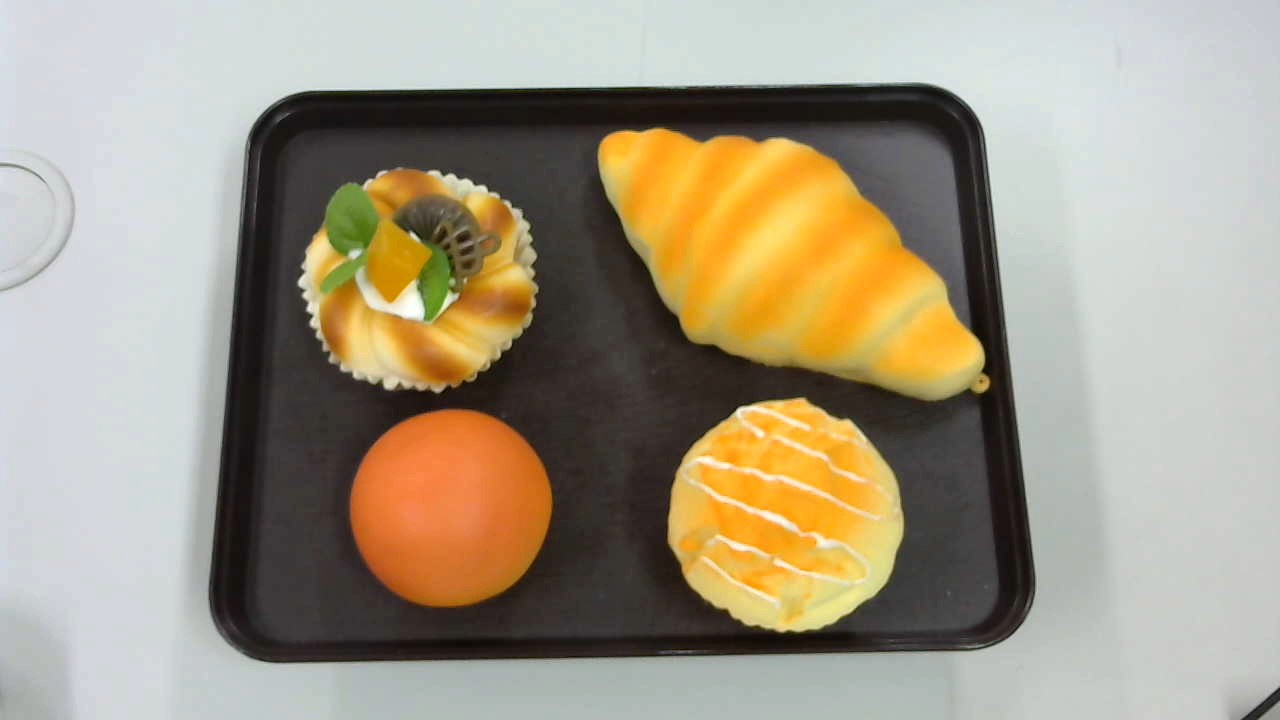bun: (349, 410, 554, 608)
croissant: (595, 127, 993, 401)
cupcake: (666, 395, 906, 632)
fruit tart: (298, 166, 537, 393)
